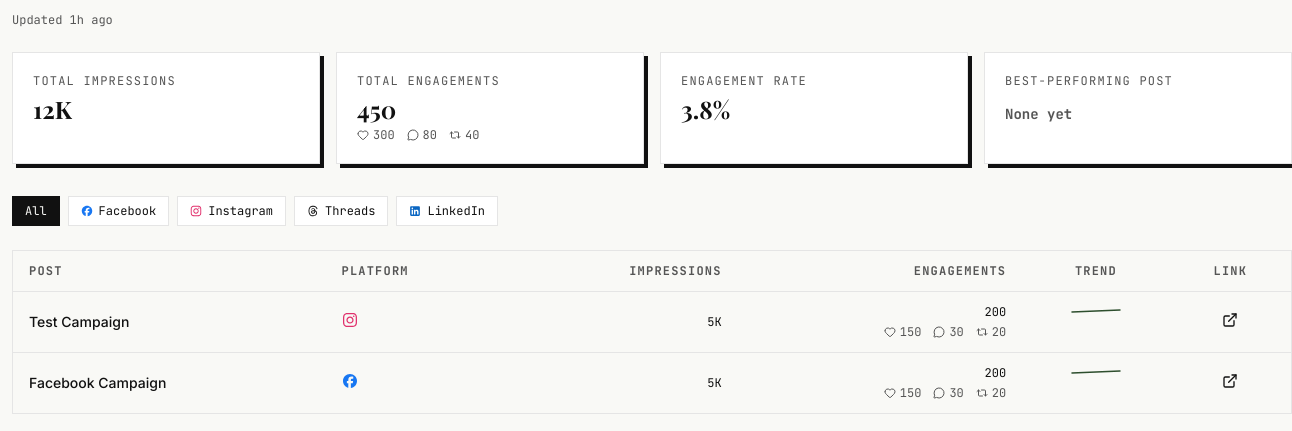
AnalyticsDashboard › platform filter chips filter by platform
Expected: the text "Test Campaign" is shown, [29, 313, 129, 330]
Expected: the text "Facebook Campaign" is shown, [29, 374, 166, 391]
// Click Facebook filter
Click the button "Facebook": point(118, 211) [68, 196, 169, 226]
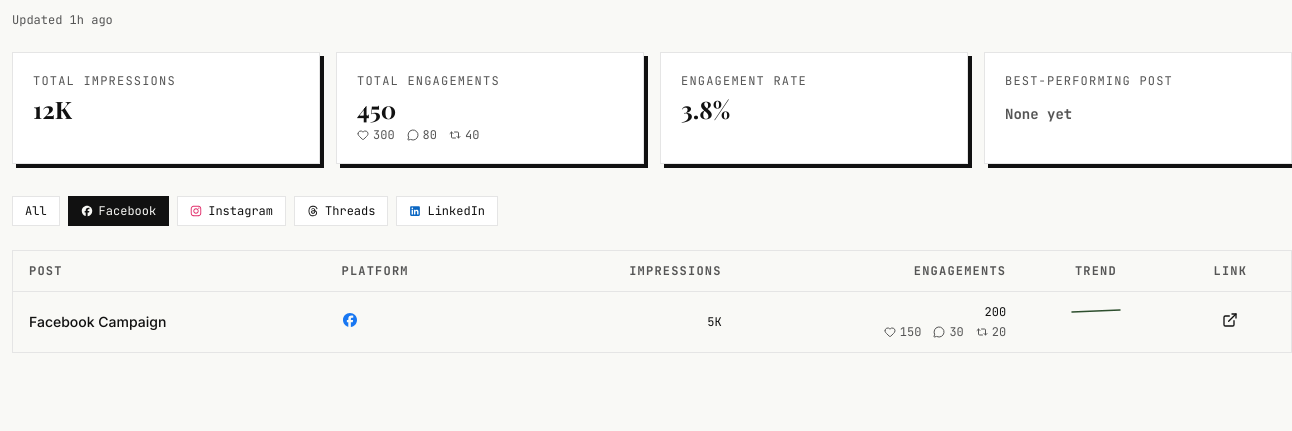
Expected: the text "Facebook Campaign" is shown, [29, 313, 166, 330]
Expected: the text "Test Campaign" is gone
